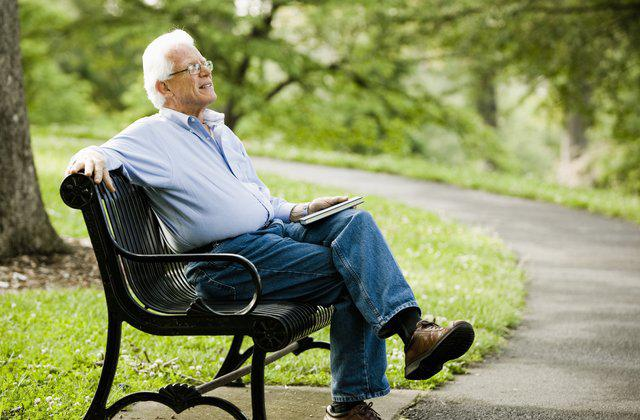Person: (64, 20, 487, 420)
